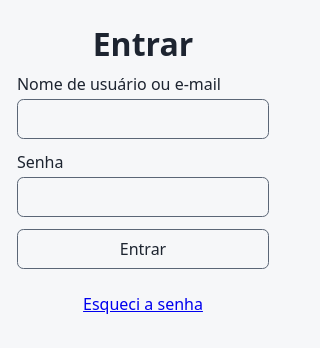
Scenario: entrar e sair › mostra a mensagem do erro CREDENCIAIS_INVALIDAS
Type "bia" into the field labelled "Nome de usuário ou e-mail" at (143, 118), box [17,98,269,138]
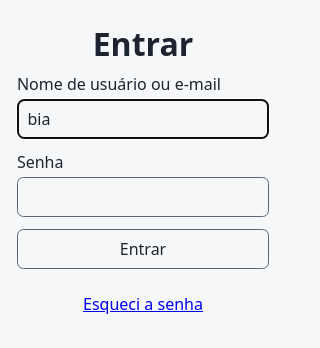
Type "errada" into the password field labelled "Senha" at (143, 196), box [17,176,269,216]
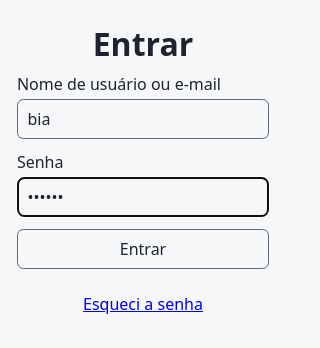
Click the button "Entrar" at (143, 248), box [17,228,269,268]
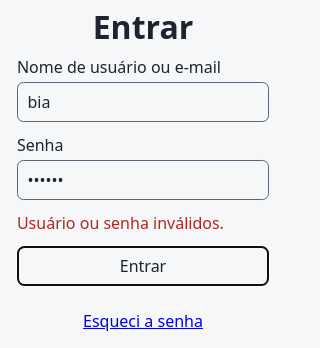
Result: the message reads "Usuário ou senha inválidos." at [17,212,224,234]
